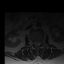CCS_normal: (36, 39, 38, 47)
LFS_normal: (40, 39, 42, 46)
LLS_normal: (38, 38, 40, 47)
RFS_normal: (32, 39, 34, 46)
RLS_normal: (34, 39, 36, 47)
